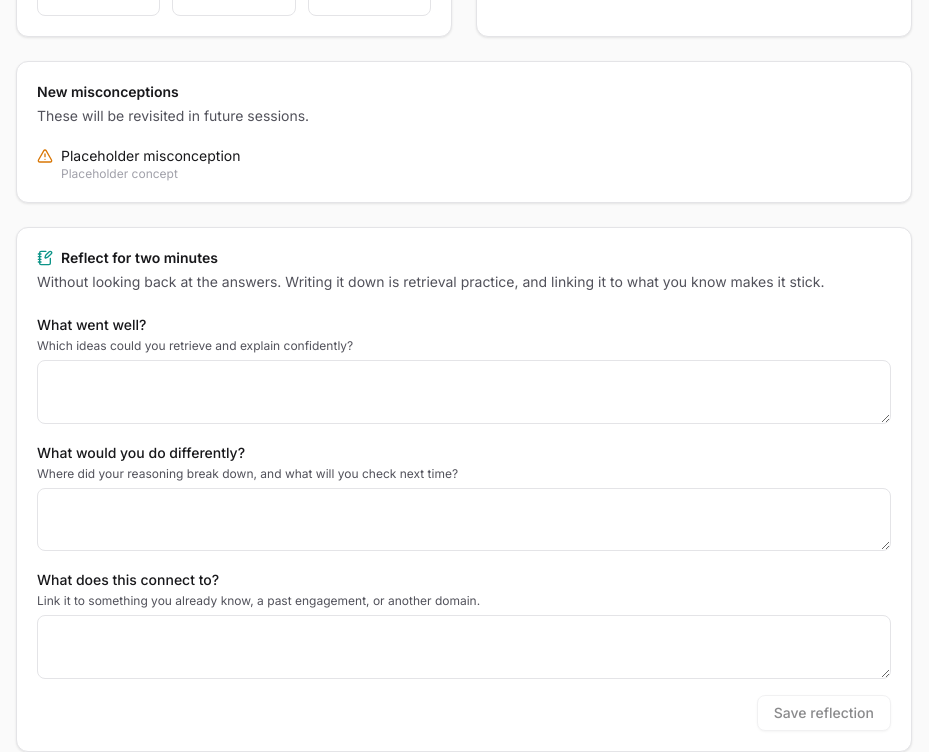
confidence and reflection › saves an end-of-session reflection
The width and height of the screenshot is (929, 752).
(page scrolled)
Check: the button "Save reflection" is disabled, box [757,694,891,730]
Type "Placeholder well" into the text box labelled "What went well".
click(464, 392); type("Placeholder well")  # box [37,360,891,424]
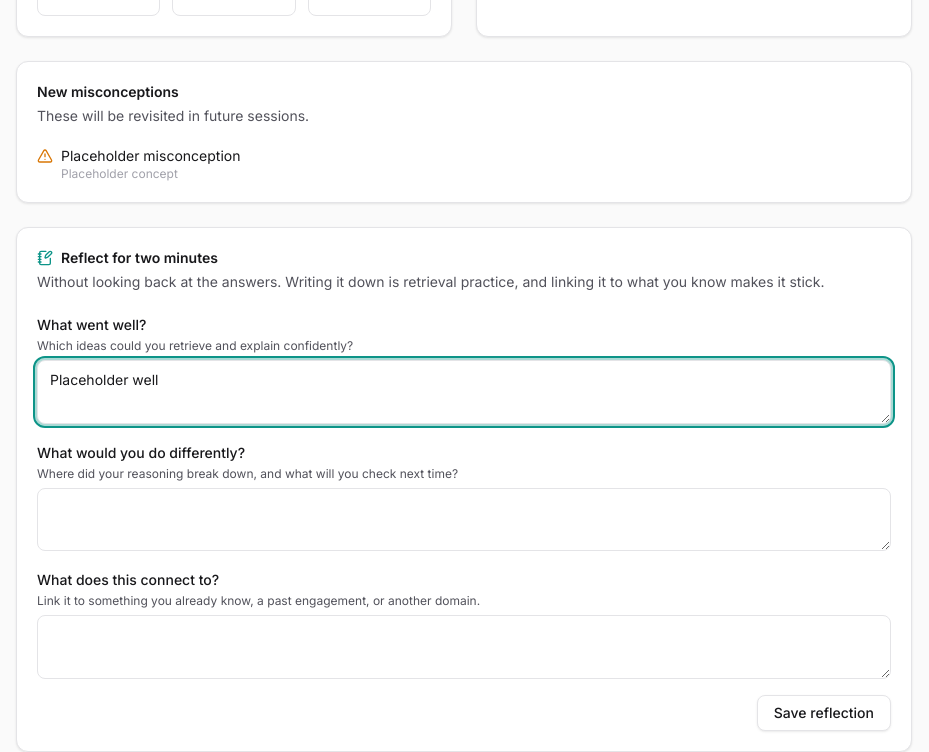
Click the button "Save reflection".
click(824, 712)  # box [757,694,891,730]
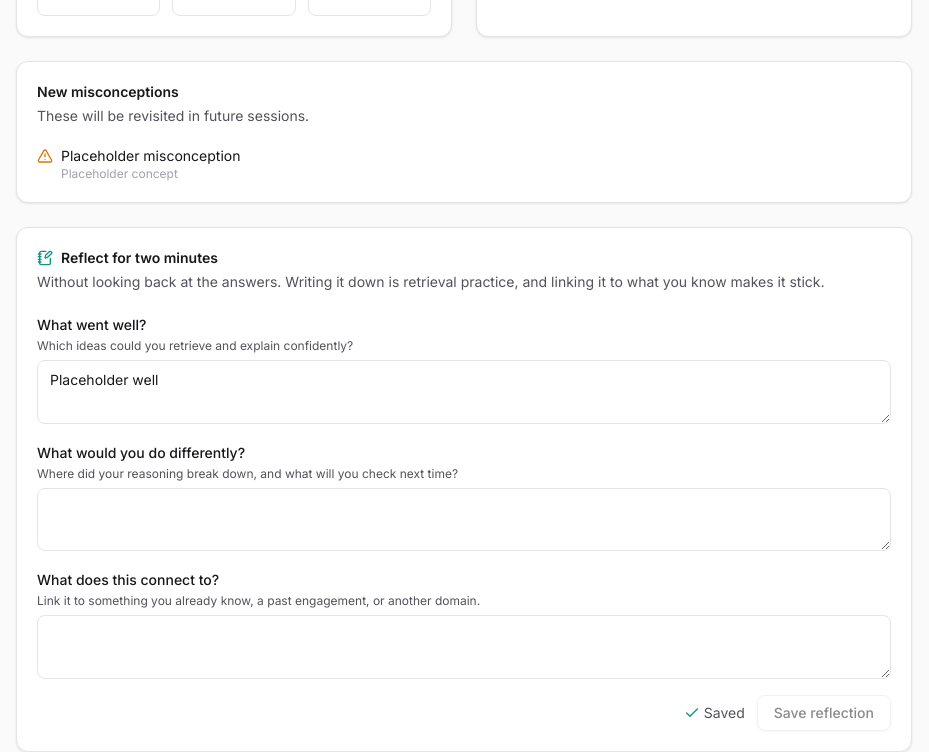
Check: the text "Saved" is shown, box [684,702,745,722]
